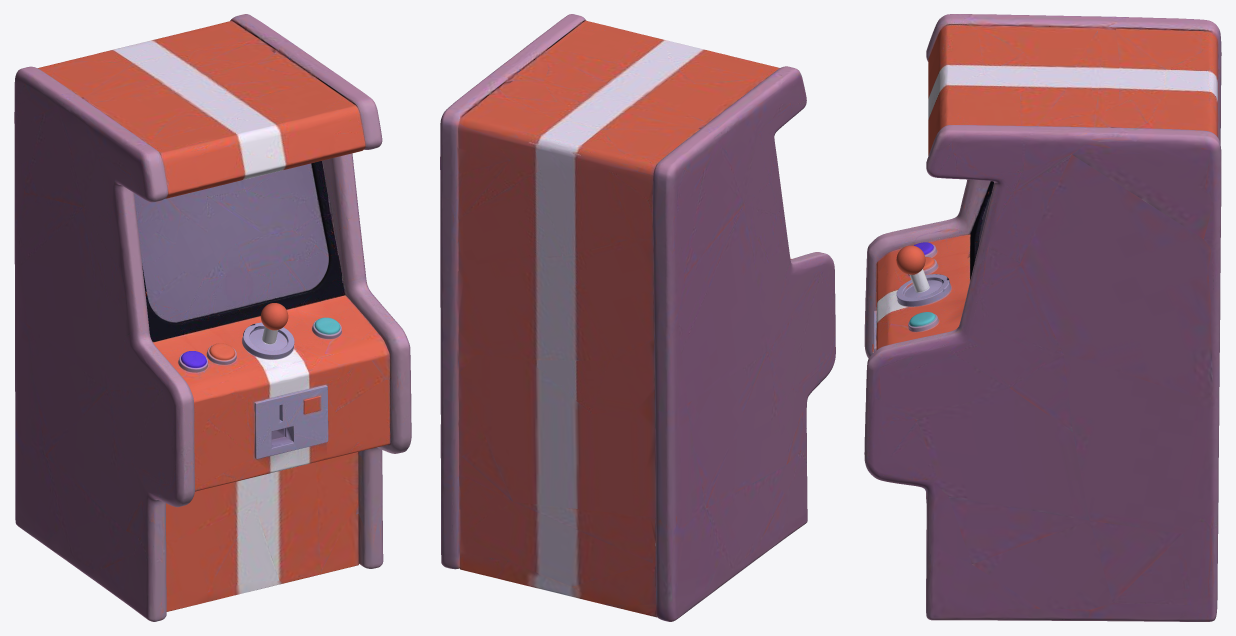
Rendered from arcade.glb.
The picture shows the model from 3 angles, left to right: view 1: azimuth 30°, elevation 25°; view 2: azimuth 150°, elevation 25°; view 3: azimuth 270°, elevation 25°; orthographic projection. The views are drawn at different scales.
Size of the model in its own units: 1.01 by 1.9 by 1.25.
1 material, 1 textured.
